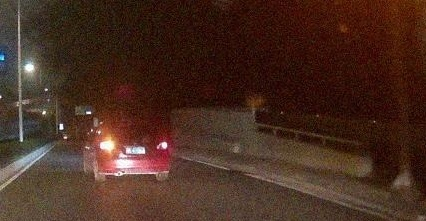L_light: (100, 142, 114, 151)
R_light: (156, 141, 168, 149)
T_light: (123, 121, 135, 124)
night-left: (99, 118, 171, 182)
